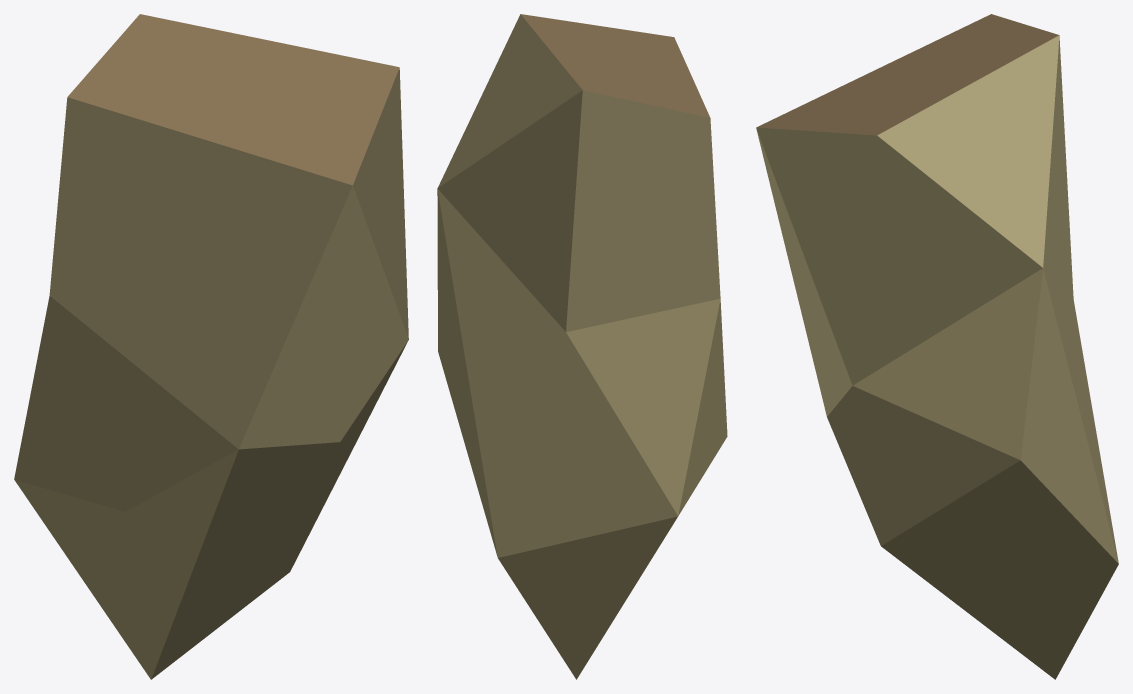
The picture shows the model from 3 angles, left to right: view 1: azimuth 30°, elevation 25°; view 2: azimuth 150°, elevation 25°; view 3: azimuth 270°, elevation 25°; orthographic projection. The views are drawn at different scales.
Visible parts, largest first — view 1: Object055; view 2: Object055; view 3: Object055.
Part boxes in pixels (bbox=[...]): Object055: bbox=[14, 14, 408, 679]; Object055: bbox=[437, 14, 727, 679]; Object055: bbox=[756, 14, 1118, 679].
Size of the model in its own units: 27.52 by 57.38 by 29.46.
